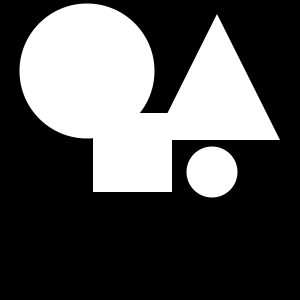circle: (93, 113, 172, 192)
rectangle: (19, 3, 154, 138), (186, 146, 238, 198), (213, 86, 239, 112)
triangle: (154, 14, 280, 140)
